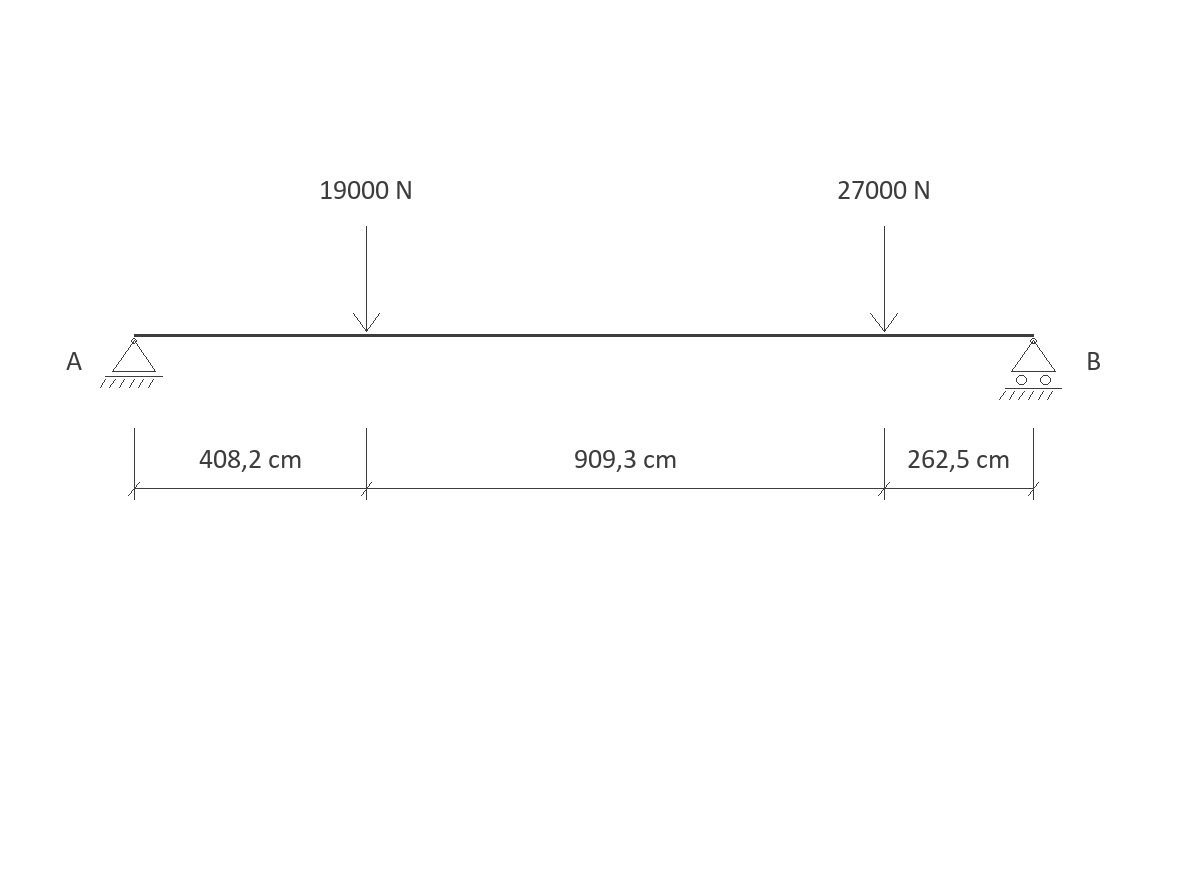pin_support: (100, 338, 163, 388)
point_load: (870, 226, 898, 332), (353, 226, 380, 332)
roller_support: (999, 338, 1062, 400)
